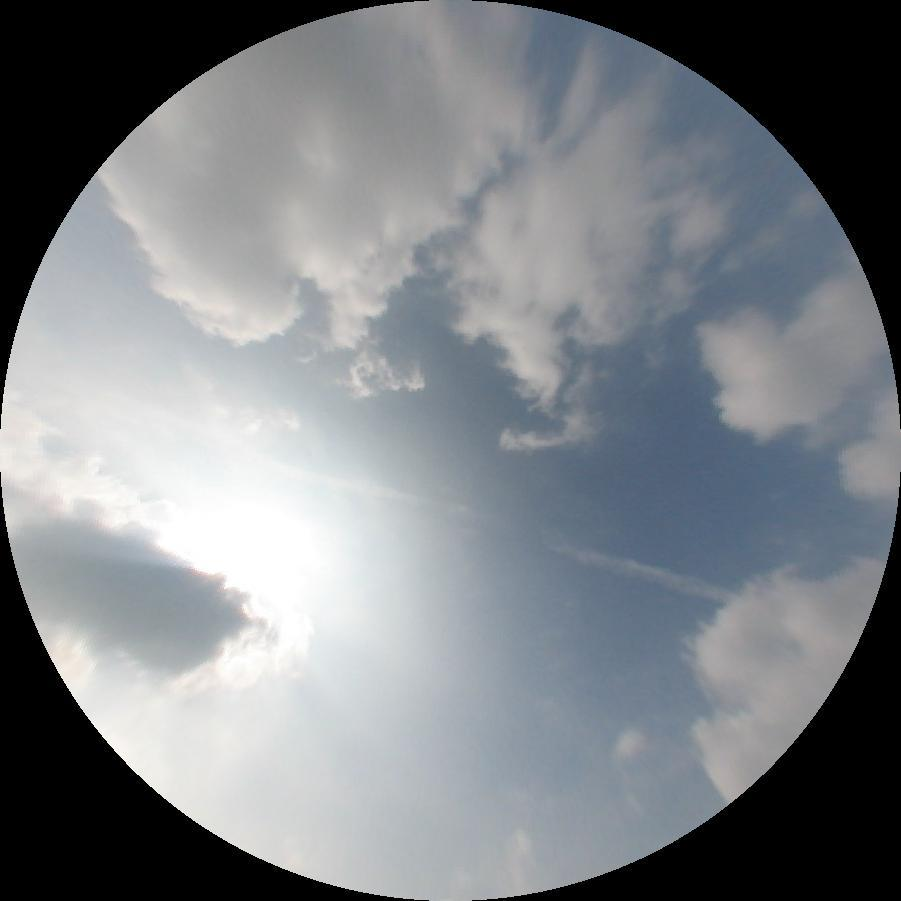contrail veryold: (268, 456, 737, 605)
sun: (153, 458, 346, 641)
